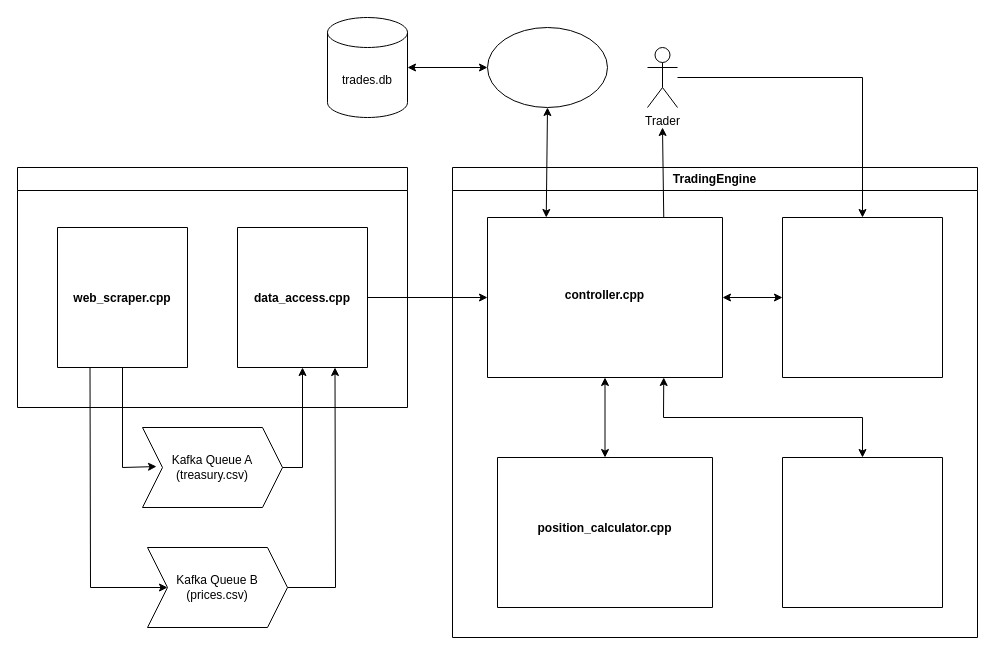
The diagram is 995 pixels wide and 655 high, and some of its shapes have lost their labels. Here are the shapes that lost their labels. From the top down, the box of each, then its label:
(486, 26, 608, 108): Redis cache
(16, 166, 408, 408): MarketData
(782, 216, 942, 378): trading_engine.cpp
(782, 456, 942, 608): performance_profiler.cpp
